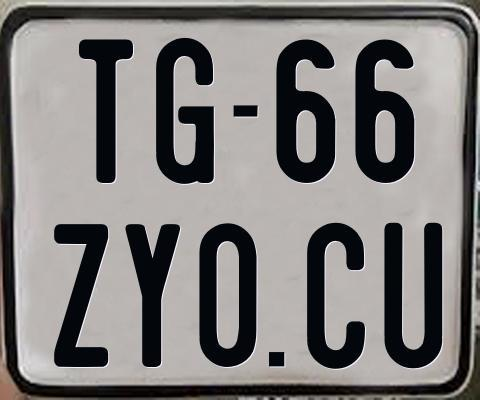0: (198, 222, 261, 370)
6: (274, 37, 337, 184), (354, 39, 418, 183)
C: (304, 220, 368, 372)
G: (155, 38, 218, 186)
T: (76, 37, 131, 186)
U: (383, 221, 446, 368)
Y: (124, 224, 183, 372)
Z: (53, 221, 107, 367)
